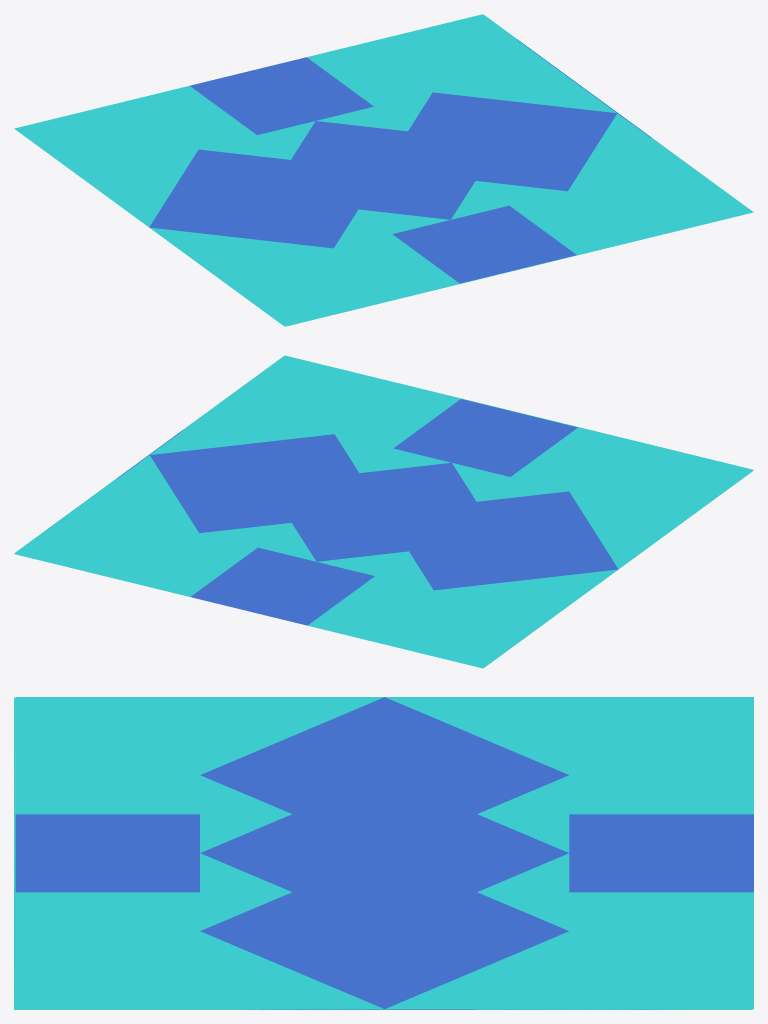
The model's file is Back.fbx.
3 renders of one model, top to bottom at view 1: azimuth 30°, elevation 25°; view 2: azimuth 150°, elevation 25°; view 3: azimuth 270°, elevation 25°, orthographic. The views are drawn at different scales.
Visible parts, largest first — view 1: Плоскость.004, Плоскость; view 2: Плоскость.004, Плоскость.001; view 3: Плоскость.004, Плоскость, Плоскость.001.
Boxes of the visible parts, left/top/right/bottom form: Плоскость.004: left=14, top=14, right=751, bottom=326; Плоскость: left=285, top=15, right=753, bottom=326; Плоскость.004: left=14, top=356, right=753, bottom=668; Плоскость.001: left=18, top=356, right=752, bottom=550; Плоскость.004: left=15, top=697, right=753, bottom=1009; Плоскость: left=14, top=697, right=751, bottom=1009; Плоскость.001: left=14, top=699, right=750, bottom=1009.
Size of the model in its own units: 10.02 by 3.05e-05 by 10.02.
